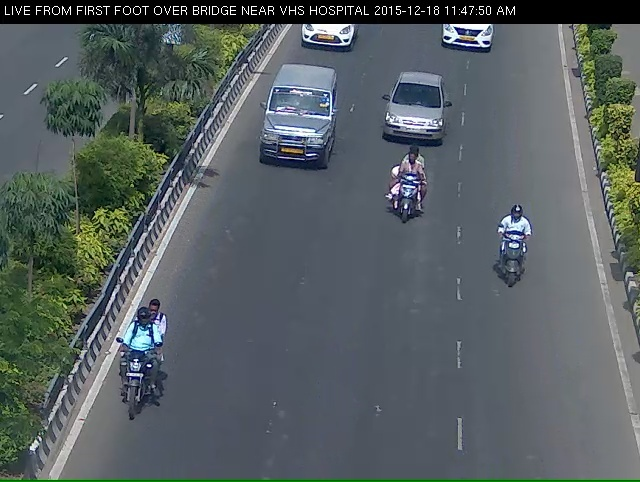Car: (261, 74, 336, 186), (380, 80, 449, 166), (436, 23, 501, 65), (291, 25, 358, 61)
Person: (102, 328, 165, 458), (380, 169, 435, 252), (497, 220, 538, 316)
